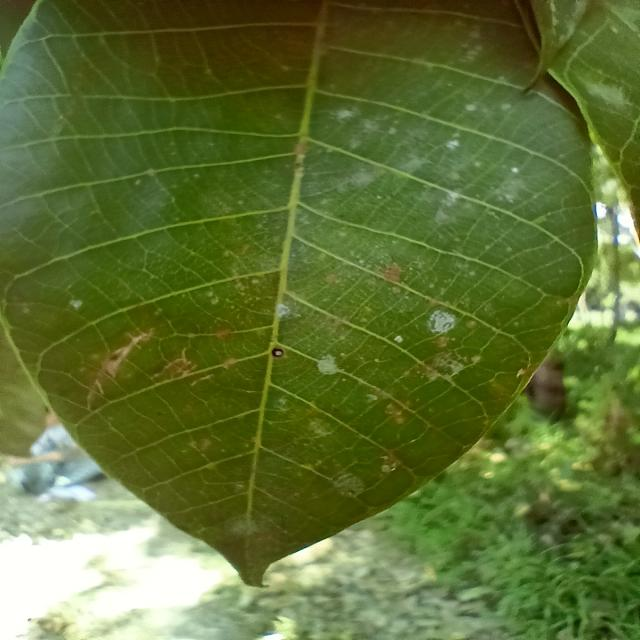Colletotrichum: (272, 348, 284, 358)
